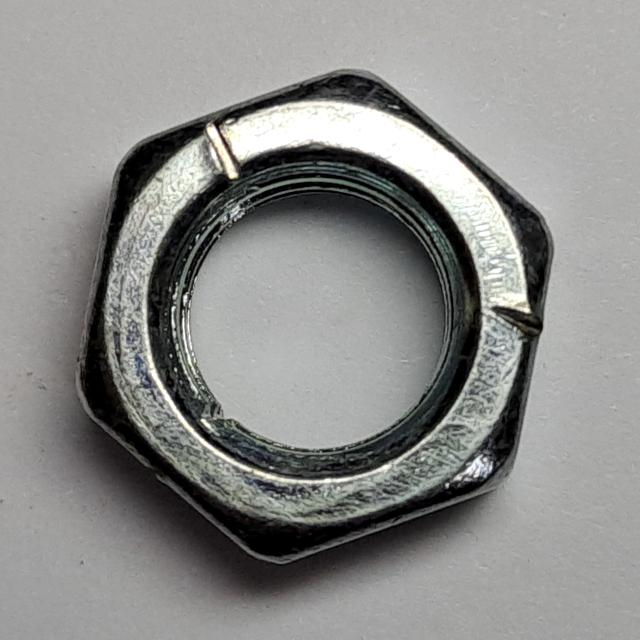Scratches: (70, 59, 564, 573)
